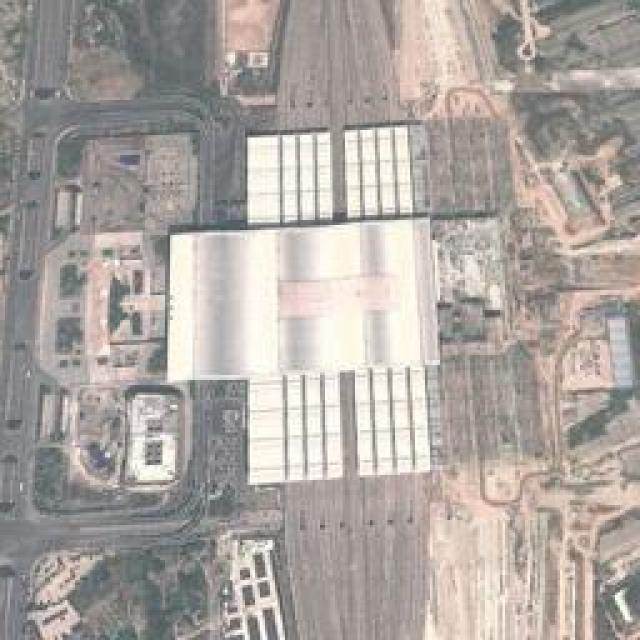Railway: (166, 0, 503, 638)
